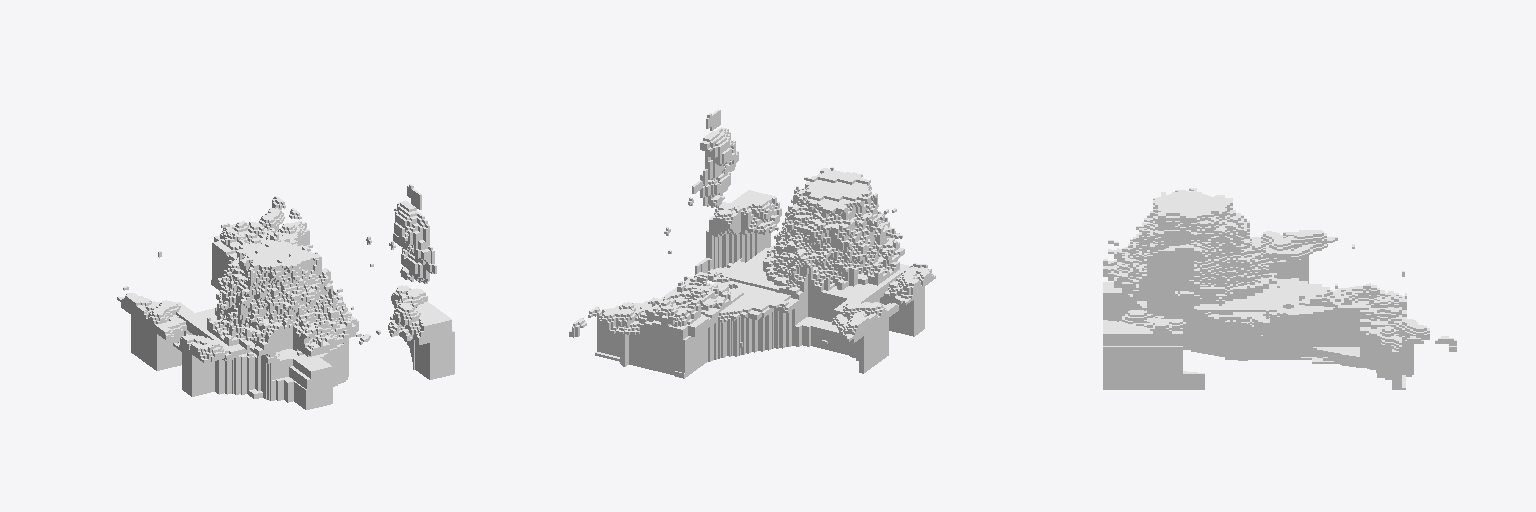
The model's file is Lava_stuff-18.obj.
3 views of the same model, side by side, from view 1: azimuth 30°, elevation 25°; view 2: azimuth 150°, elevation 25°; view 3: azimuth 270°, elevation 25° (orthographic).
Visible parts, largest first — view 1: object 1; view 2: object 1; view 3: object 1.
Boxes of the visible parts, <box> form: object 1: <box>117,184,454,409</box>; object 1: <box>569,109,935,378</box>; object 1: <box>1103,188,1456,389</box>.
Size of the model in its own units: 18.4 by 12.8 by 25.6.